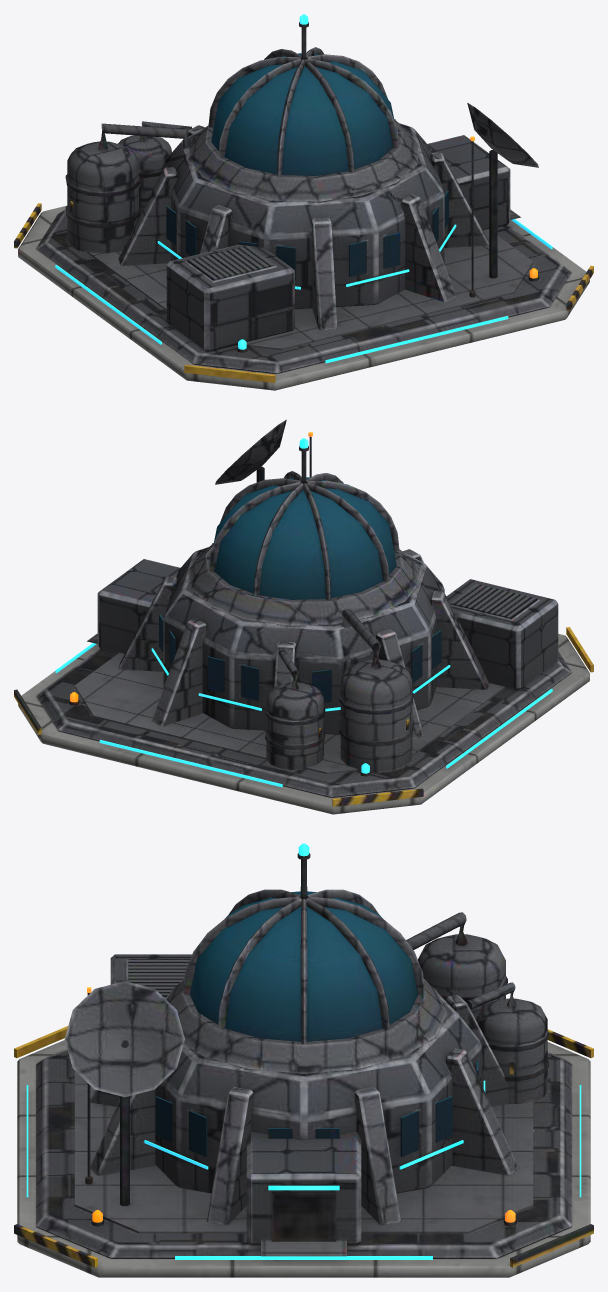
File: terran_lab.glb
3 renders of one model, top to bottom at view 1: azimuth 30°, elevation 25°; view 2: azimuth 150°, elevation 25°; view 3: azimuth 270°, elevation 25°, orthographic. The views are drawn at different scales.
Parts seen in each view (by area): view 1: Hull; view 2: Hull; view 3: Hull.
Boxes of the visible parts, left/top/right/bottom form: Hull: left=14, top=14, right=593, bottom=390; Hull: left=14, top=419, right=593, bottom=814; Hull: left=14, top=843, right=593, bottom=1277.
Bounding box in the file's own units: 8.09 × 4.82 × 8.09.
1 material, 1 textured.
